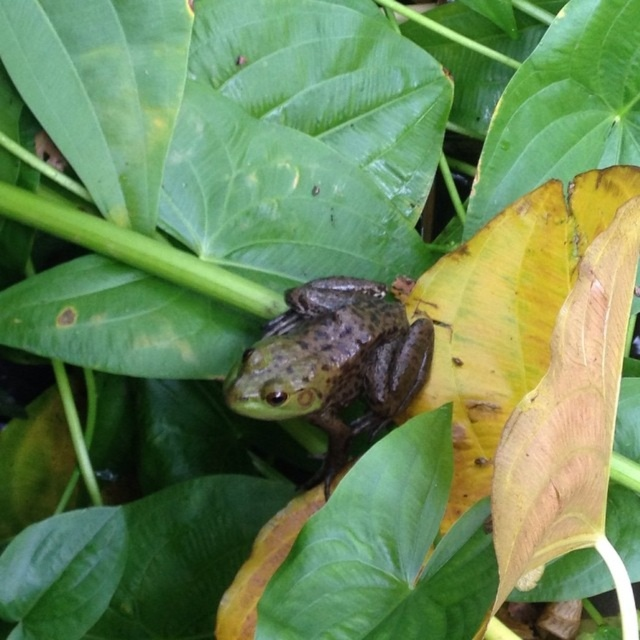Frog: (218, 275, 437, 503)
